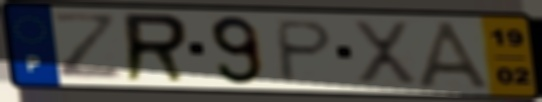9: (206, 14, 267, 87)
A: (414, 19, 499, 92)
P: (276, 18, 338, 84)
R: (122, 10, 192, 84)
X: (349, 18, 421, 89)
Z: (47, 10, 129, 81)
